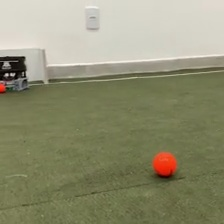ball: (152, 150, 178, 178), (1, 82, 7, 93)
goal: (1, 46, 51, 86)
robot: (1, 54, 29, 94)
